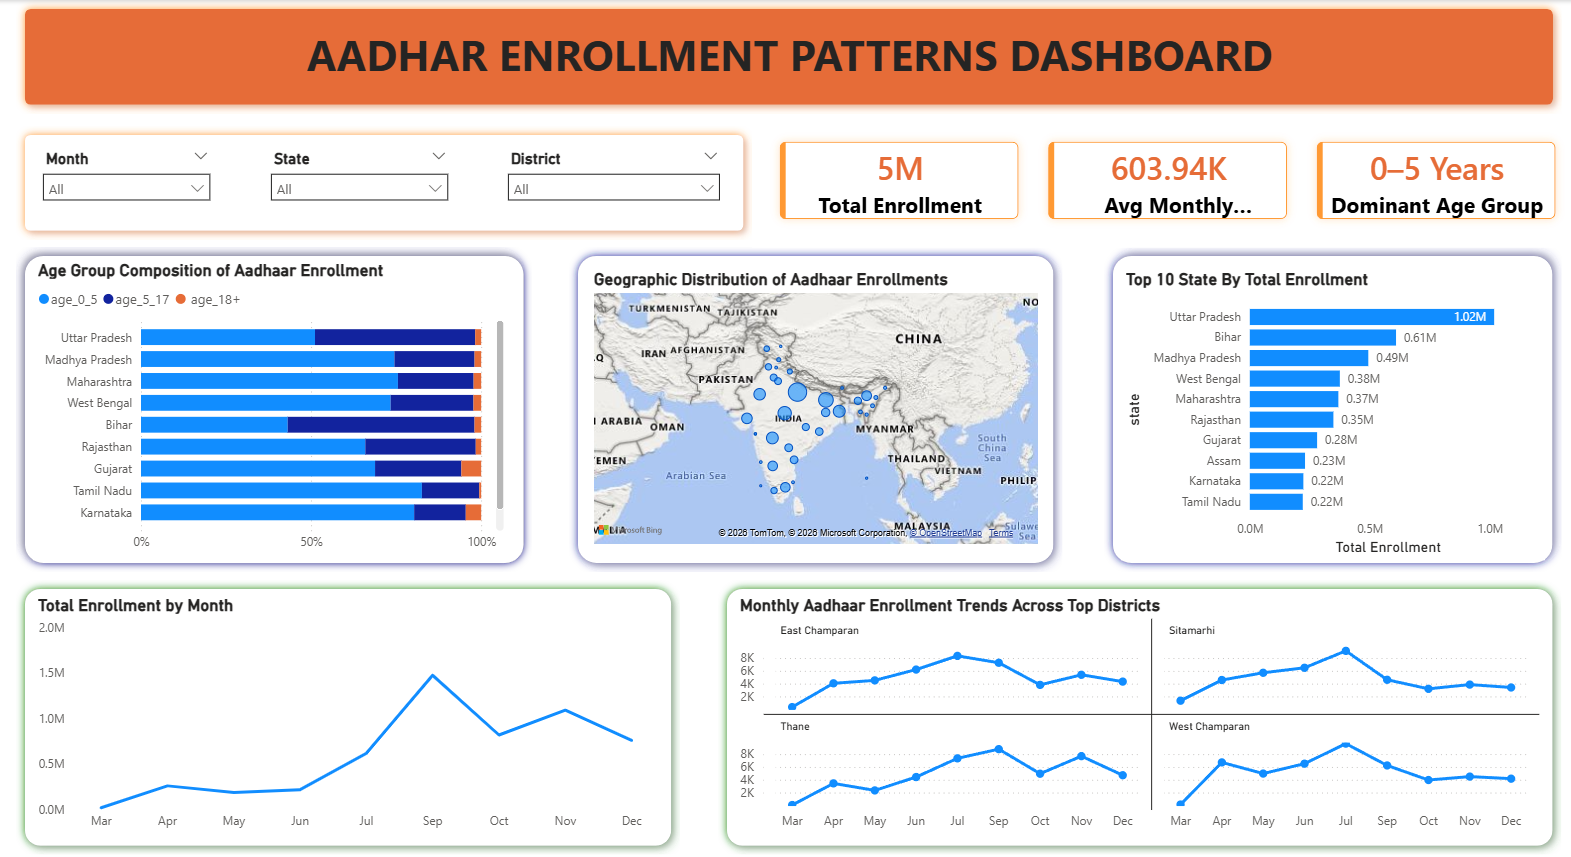

The page's visual inventory and layout, read from the dashboard file:
{"tool":"powerbi","page":{"name":"Page 1","canvas":[1600,870],"ordinal":0},"visuals":[{"type":"shape","box":[1116.4,249.6,461.6,328],"z":0},{"type":"shape","box":[17.7,585.2,670.3,277.2],"z":1000},{"type":"shape","box":[726.6,585.2,851.3,277.2],"z":2000},{"type":"shape","box":[576.4,249.6,498,328],"z":3000},{"type":"shape","box":[17.7,249.6,521.2,328],"z":4000},{"type":"shape","box":[17.7,0,1560.2,114.8],"z":5000},{"type":"shape","box":[17.7,127,743.1,114.8],"z":6000},{"type":"textbox","box":[30.9,19.9,1536,74],"z":7000},{"type":"cardVisual","fields":{"Data":["Measures (2).Total Enrollment","Measures (2).Avg Monthly Enrollment","Measures (2).Dominant Age Group"]},"box":[760.8,114.8,839.2,134.7],"z":8000},{"type":"lineChart","title":"Total Enrollment by Month","fields":{"Y":["Measures (2).Total Enrollment"],"Category":["DateTable.Month Name"]},"box":[35.3,600.7,636,246.2],"z":9000},{"type":"clusteredBarChart","title":"Top 10 State By Total Enrollment","fields":{"Y":["Measures (2).Total Enrollment"],"Category":["Aadhar_main.state"]},"box":[1132.9,271.6,428.4,293.7],"z":10000},{"type":"hundredPercentStackedBarChart","title":"Age Group Composition of Aadhaar Enrollment","fields":{"Category":["Aadhar_main.state"],"Y":["Aadhar_main.age_0_5","Aadhar_main.age_5_17","Aadhar_main.age_18_greater"]},"box":[35.3,262.8,480.3,302.6],"z":11000},{"type":"lineChart","title":"Monthly Aadhaar Enrollment Trends Across Top Districts","fields":{"Category":["DateTable.Month Name"],"Y":["Measures (2).Total Enrollment"],"Rows":["Aadhar_main.district"]},"box":[744.2,600.7,817.1,246.2],"z":12000},{"type":"map","title":"Geographic Distribution of Aadhaar Enrollments","fields":{"Category":["Aadhar_main.state"],"Size":["Measures (2).Total Enrollment"]},"box":[596.3,271.6,458.2,282.7],"z":13000},{"type":"slicer","fields":{"Values":["DateTable.Month Name"]},"box":[35.3,145.8,188.8,69.6],"z":14000},{"type":"slicer","fields":{"Values":["Aadhar_main.district"]},"box":[504.6,145.8,234.1,69.6],"z":15000},{"type":"slicer","fields":{"Values":["Aadhar_main.state"]},"box":[265,145.8,198.8,68.5],"z":16000}]}

Visuals, with their boxes in screenshot pixels (x1, y1, x2, y2), scaled from the page's 1600x870 canvas onto the 1571x857 screenshot:
shape: l=1096, t=246, r=1549, b=569
shape: l=17, t=576, r=676, b=850
shape: l=713, t=576, r=1549, b=850
shape: l=566, t=246, r=1055, b=569
shape: l=17, t=246, r=529, b=569
shape: l=17, t=0, r=1549, b=113
shape: l=17, t=125, r=747, b=238
textbox: l=30, t=20, r=1538, b=92
cardVisual - Measures (2).Total Enrollment x Measures (2).Avg Monthly Enrollment: l=747, t=113, r=1570, b=246
"Total Enrollment by Month" lineChart: l=35, t=592, r=659, b=834
"Top 10 State By Total Enrollment" clusteredBarChart: l=1112, t=268, r=1533, b=557
"Age Group Composition of Aadhaar Enrollment" hundredPercentStackedBarChart: l=35, t=259, r=506, b=557
"Monthly Aadhaar Enrollment Trends Across Top Districts" lineChart: l=731, t=592, r=1533, b=834
"Geographic Distribution of Aadhaar Enrollments" map: l=585, t=268, r=1035, b=546
slicer - DateTable.Month Name: l=35, t=144, r=220, b=212
slicer - Aadhar_main.district: l=495, t=144, r=725, b=212
slicer - Aadhar_main.state: l=260, t=144, r=455, b=211
